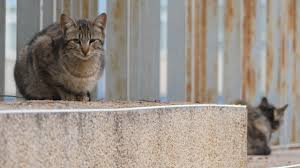cat: (9, 7, 117, 104)
